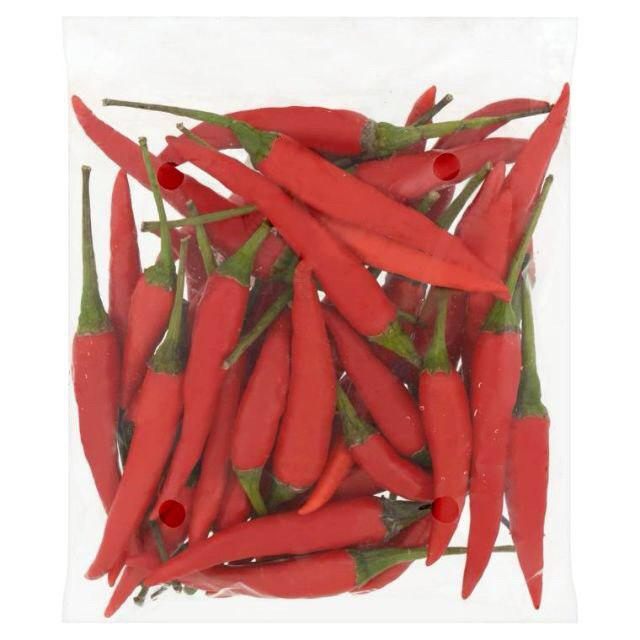lada merah: (179, 139, 402, 339), (257, 126, 481, 274), (78, 104, 275, 261), (132, 490, 407, 588), (154, 264, 255, 522), (456, 312, 533, 613), (158, 93, 407, 171), (74, 301, 137, 546), (322, 317, 427, 460), (500, 397, 560, 636), (418, 349, 482, 571), (155, 548, 390, 608), (109, 252, 182, 403), (334, 427, 435, 504)
